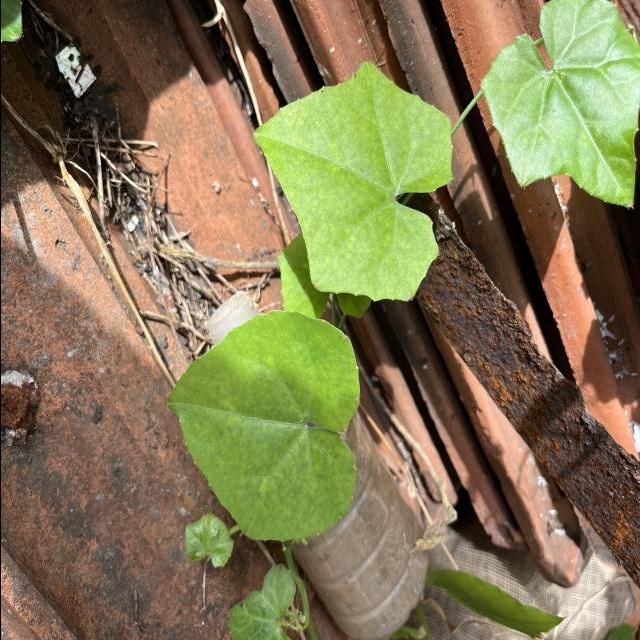Coccinia grandis: (250, 59, 454, 304), (164, 307, 361, 544)
